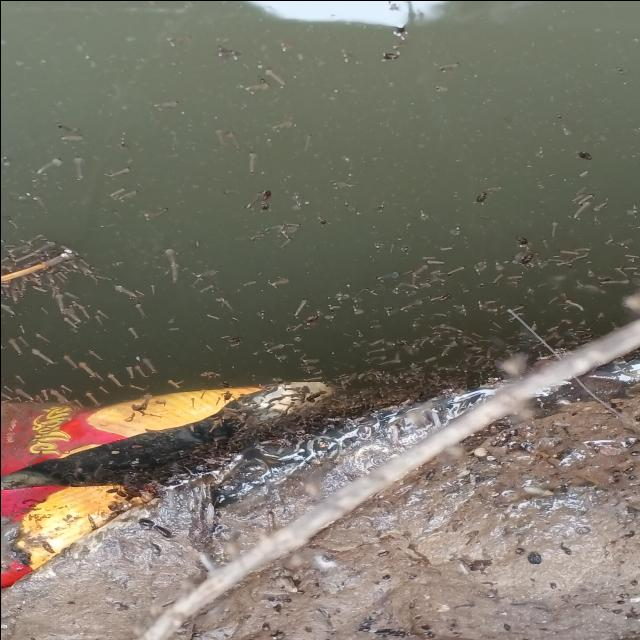Breeding Place: (0, 0, 640, 480)
Mosquito Swarm: (0, 184, 621, 462)
